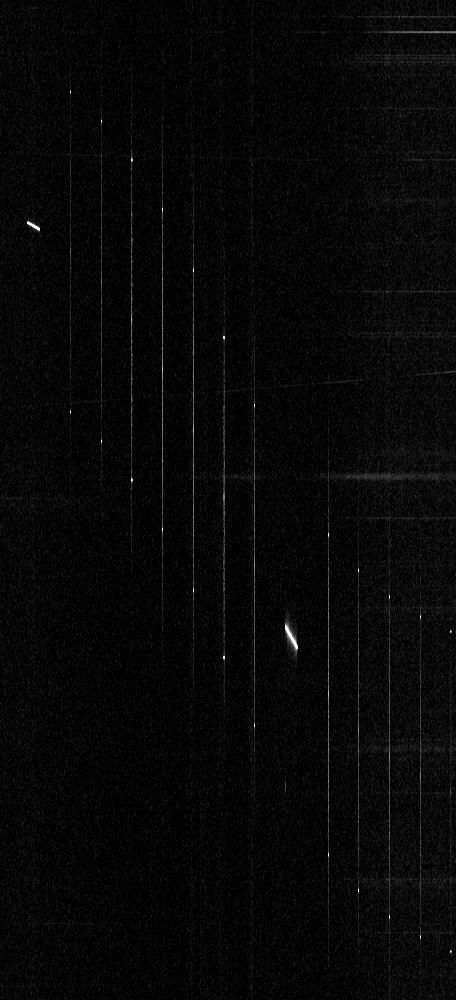signal: (0, 0, 455, 999)
